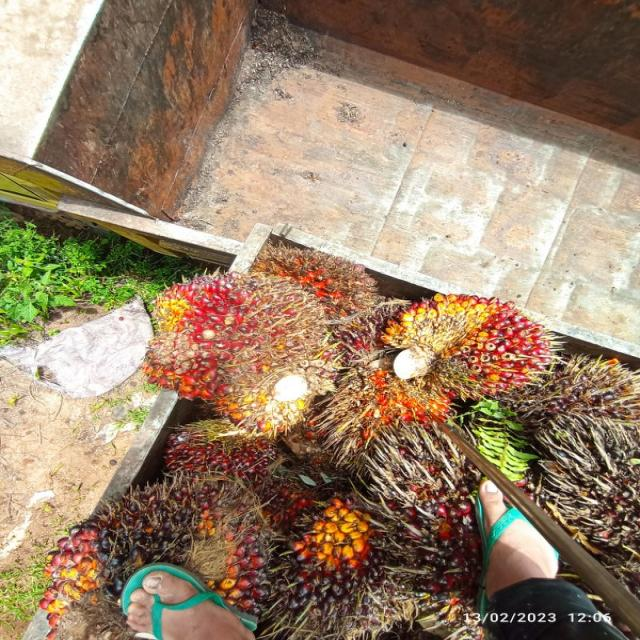fraksi 00: (254, 487, 379, 616)
fraksi 1: (165, 405, 281, 489)
fraksi 3: (116, 241, 350, 435), (356, 264, 567, 407)
fraksi 4: (250, 226, 382, 328)
